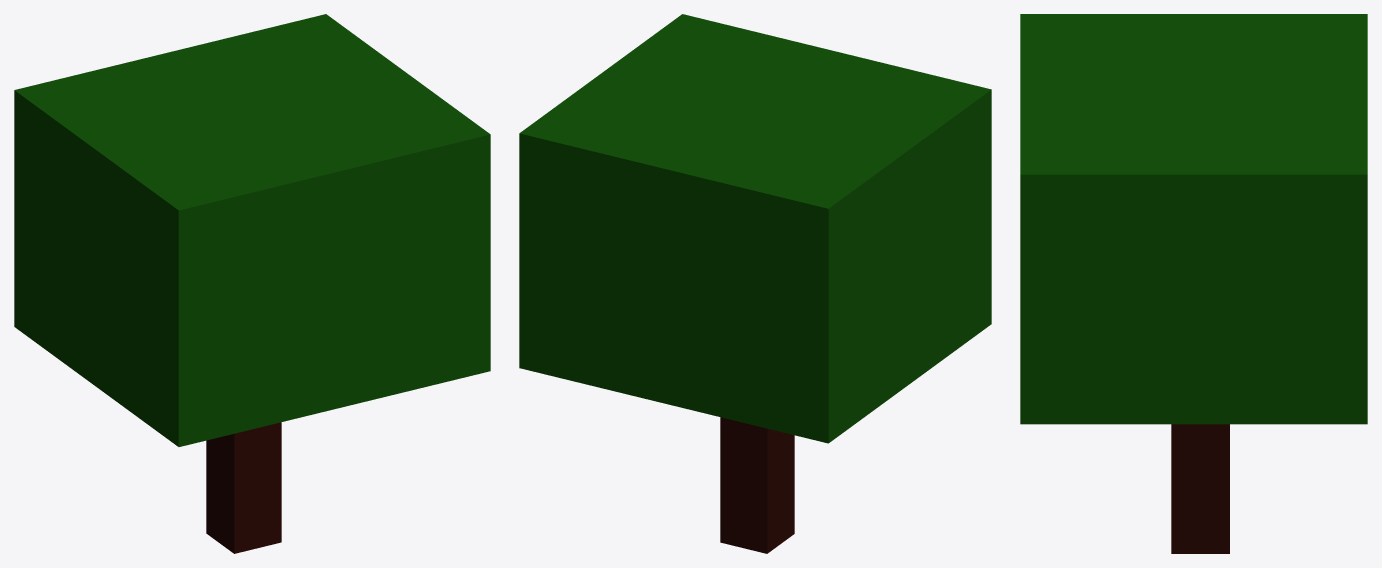
Rendered from tree2.fbx.
3 renders of one model, left to right at view 1: azimuth 30°, elevation 25°; view 2: azimuth 150°, elevation 25°; view 3: azimuth 270°, elevation 25°, orthographic. The views are drawn at different scales.
Parts seen in each view (by area): view 1: leves tree 2, trunk tree 2; view 2: leves tree 2, trunk tree 2; view 3: leves tree 2, trunk tree 2.
Part boxes in pixels (x1=…): leves tree 2: x1=14, y1=14, x2=490, y2=446; trunk tree 2: x1=206, y1=422, x2=281, y2=553; leves tree 2: x1=519, y1=14, x2=991, y2=443; trunk tree 2: x1=720, y1=417, x2=794, y2=553; leves tree 2: x1=1020, y1=14, x2=1367, y2=424; trunk tree 2: x1=1171, y1=424, x2=1229, y2=553.
Size of the model in its own units: 470 by 614 by 429.
